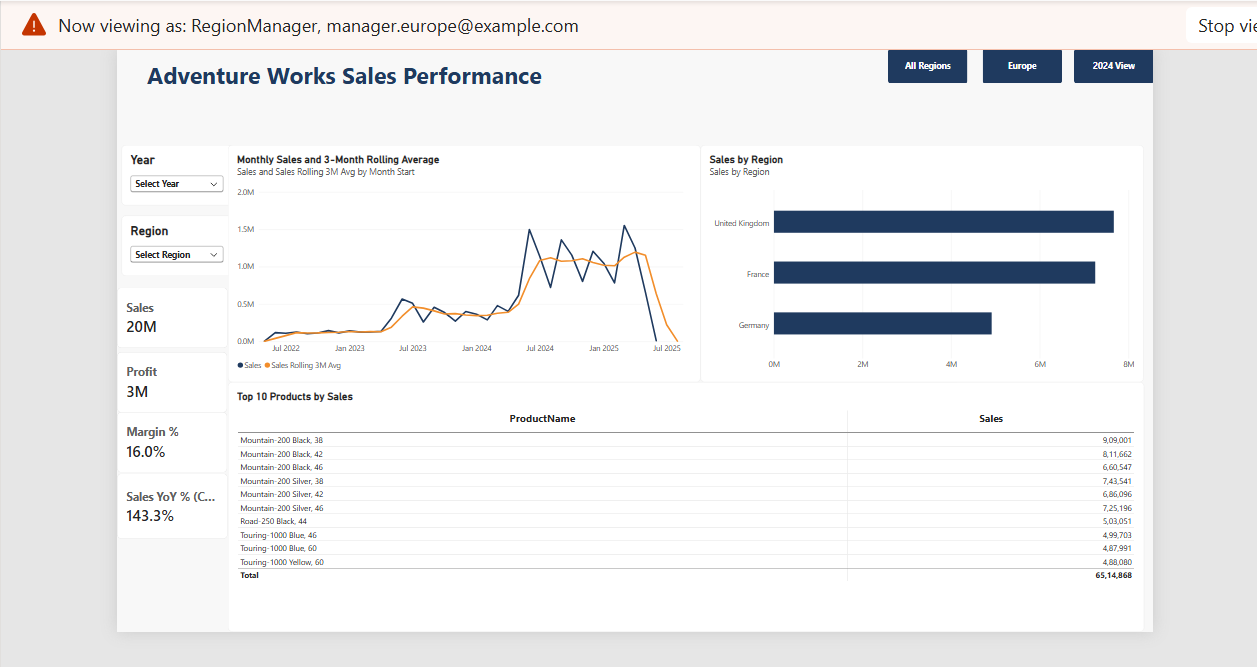

This screenshot's page, from the dashboard's own definition file:
{"tool":"powerbi","page":{"name":"Executive Overview","canvas":[1920,1080],"ordinal":0},"visuals":[{"type":"textbox","box":[9.5,0,1911.1,126.5],"z":0},{"type":"listSlicer","fields":{"Values":["dim_Date.Year"]},"box":[9.5,178.9,205.2,112.1],"z":1000},{"type":"listSlicer","fields":{"Values":["dim_Territory.Region"]},"box":[9.5,307.8,205,112],"z":2000},{"type":"cardVisual","fields":{"Data":["_Measures (2).Sales"]},"box":[0,441.4,205.2,112],"z":3000},{"type":"cardVisual","fields":{"Data":["_Measures (2).Profit"]},"box":[0,560.7,204.9,112],"z":4000},{"type":"cardVisual","fields":{"Data":["_Measures (2).Margin %"]},"box":[0,672.8,204.9,112],"z":5000},{"type":"cardVisual","fields":{"Data":["_Measures (2).Sales YoY % (Comparable)"]},"box":[0,785,205.2,121.7],"z":6000},{"type":"lineChart","title":"Monthly Sales and 3-Month Rolling Average","fields":{"Category":["dim_Date.Month Start"],"Y":["_Measures (2).Sales","_Measures (2).Sales Rolling 3M Avg"]},"box":[205.2,176.6,875.6,439],"z":7000},{"type":"clusteredBarChart","title":"Sales by Region","fields":{"Category":["dim_Territory.Region"],"Y":["_Measures (2).Sales"]},"box":[1080.8,178.9,820.8,439],"z":8000},{"type":"tableEx","title":"Top 10 Products by Sales","fields":{"Values":["dim_Product.ProductName","_Measures (2).Sales"]},"box":[205.2,618,1696.4,462.9],"z":9000},{"type":"actionButton","box":[1426.8,0,147.3,63.6],"z":10000},{"type":"actionButton","box":[1603.3,0,147.3,63.6],"z":11000},{"type":"actionButton","box":[1772.7,0,147.3,63.6],"z":12000}]}

Visuals, with their boxes on the page's 1920x1080 design canvas (x1, y1, x2, y2). These are canvas units, not pixel positions in the 1257x667 screenshot, which may show the page scaled, cropped or inside an application window:
textbox: (10, 0, 1921, 126)
listSlicer - dim_Date.Year: (10, 179, 215, 291)
listSlicer - dim_Territory.Region: (10, 308, 214, 420)
cardVisual - _Measures (2).Sales: (0, 441, 205, 553)
cardVisual - _Measures (2).Profit: (0, 561, 205, 673)
cardVisual - _Measures (2).Margin %: (0, 673, 205, 785)
cardVisual - _Measures (2).Sales YoY % (Comparable): (0, 785, 205, 907)
"Monthly Sales and 3-Month Rolling Average" lineChart: (205, 177, 1081, 616)
"Sales by Region" clusteredBarChart: (1081, 179, 1902, 618)
"Top 10 Products by Sales" tableEx: (205, 618, 1902, 1081)
actionButton: (1427, 0, 1574, 64)
actionButton: (1603, 0, 1751, 64)
actionButton: (1773, 0, 1920, 64)
